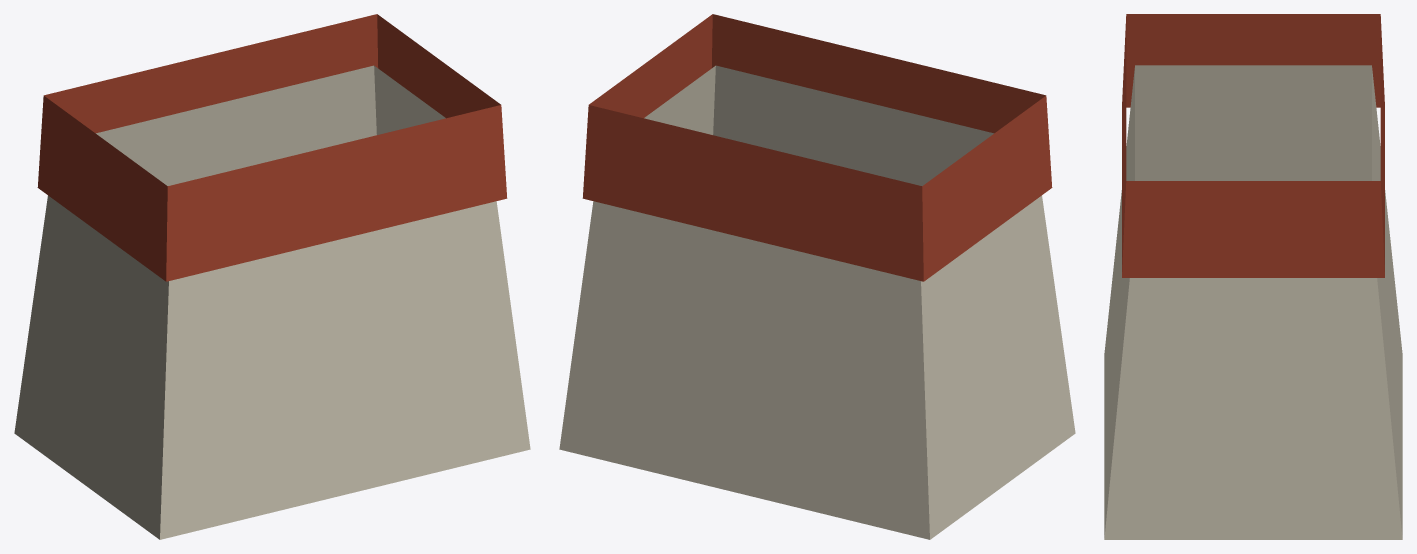
The model's file is pc_hips.obj.
The picture shows the model from 3 angles, left to right: view 1: azimuth 30°, elevation 25°; view 2: azimuth 150°, elevation 25°; view 3: azimuth 270°, elevation 25°; orthographic projection. The views are drawn at different scales.
Visible parts, largest first — view 1: pc_hips; view 2: pc_hips; view 3: pc_hips.
Part boxes in pixels (<box>): pc_hips: <box>14,14,530,539</box>; pc_hips: <box>559,14,1075,539</box>; pc_hips: <box>1104,14,1402,539</box>.
Bounding box in the file's own units: 0.5 × 0.44 × 0.34.
